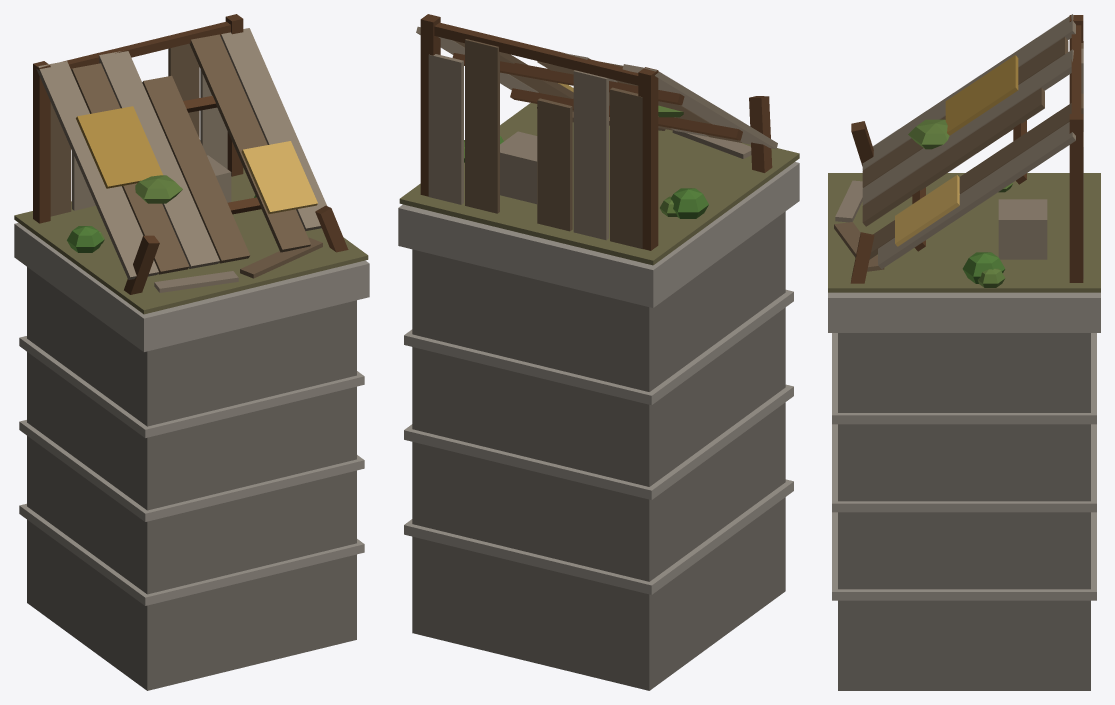
File: decor_collapsed_shed.glb
3 views of the same model, side by side, from view 1: azimuth 30°, elevation 25°; view 2: azimuth 150°, elevation 25°; view 3: azimuth 270°, elevation 25° (orthographic). The views are drawn at different scales.
Parts seen in each view (by area): view 1: decor_collapsed_shed; view 2: decor_collapsed_shed; view 3: decor_collapsed_shed.
Boxes of the visible parts, <box> form: decor_collapsed_shed: <box>14,14,369,690</box>; decor_collapsed_shed: <box>398,14,799,690</box>; decor_collapsed_shed: <box>828,14,1100,690</box>.
Size of the model in its own units: 2.82 by 6.46 by 2.8.
